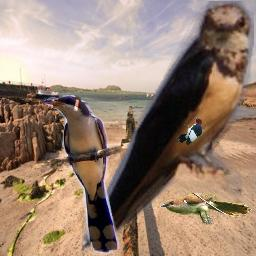Cuckoo: (41, 95, 121, 255), (160, 193, 252, 225)
Swallow: (82, 1, 254, 256)
Woodpecker: (176, 116, 202, 145)
